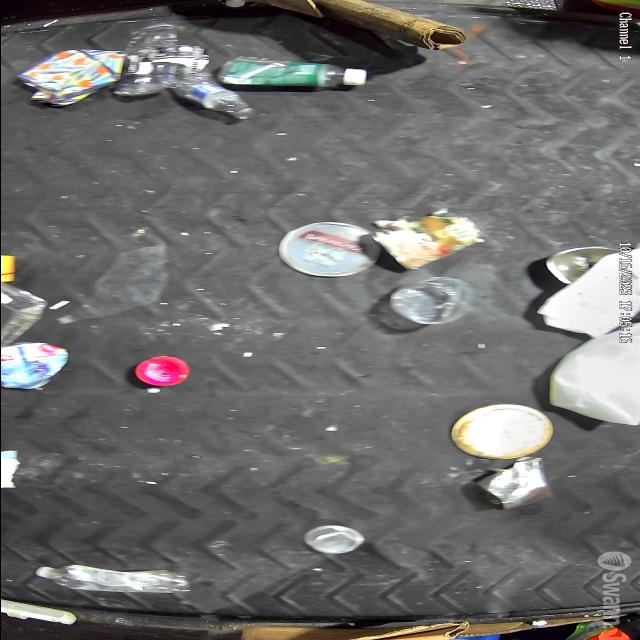can: (377, 206, 483, 272), (462, 462, 561, 511)
milk_jug: (544, 329, 640, 428), (544, 240, 640, 339)
plastic_bottle: (118, 18, 196, 104), (34, 567, 192, 601), (222, 62, 368, 94), (180, 75, 252, 123)
